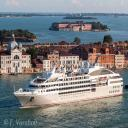cruises: (13, 55, 125, 111)
